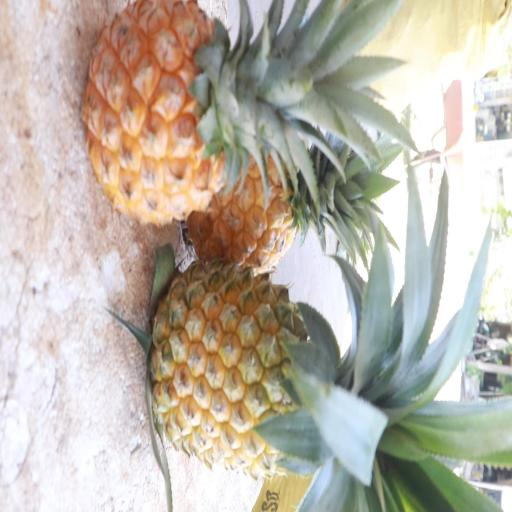Pineapple - v8 v1: (146, 260, 398, 470), (78, 0, 298, 236), (186, 130, 348, 272)
